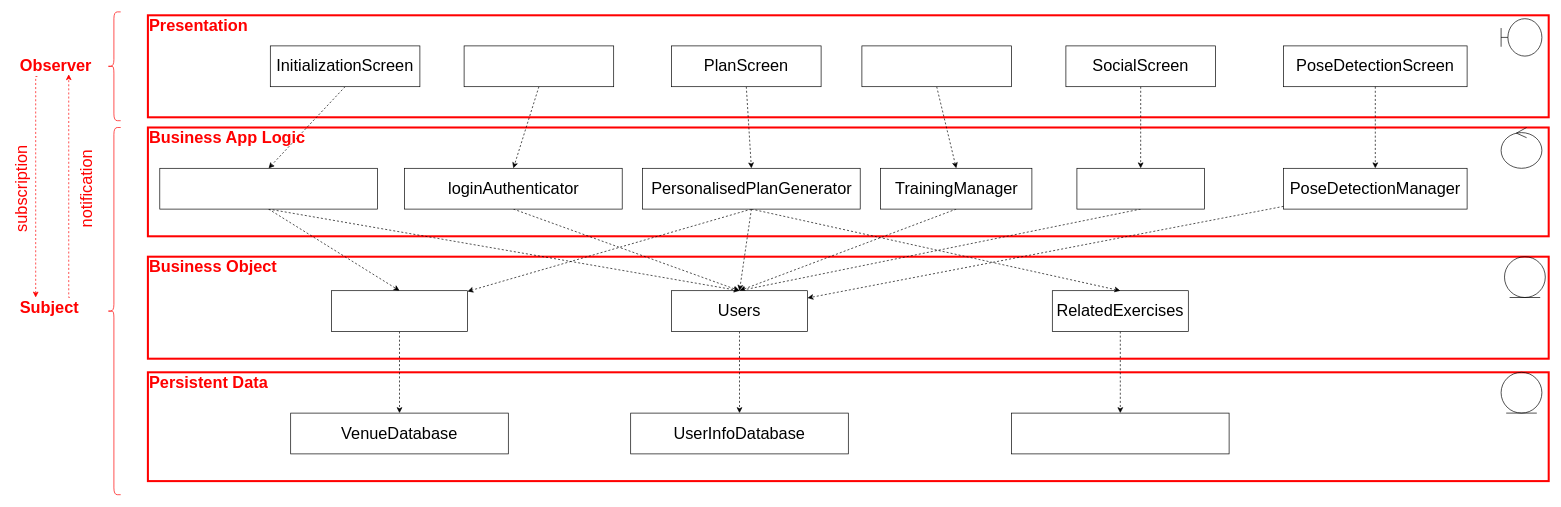
Some shapes in this 1561 by 507 pixel diagram are drawn without their labels. The shapes that lost their labels are listed below. From the top down, each one's centre as x and y in pixels, then its label:
point (538, 66): LoginScreen
point (936, 66): TrainScreen
point (268, 188): RegistrationManager
point (1140, 188): SocialManager
point (399, 311): Venues
point (1120, 433): RelatedExercisesDatabase
